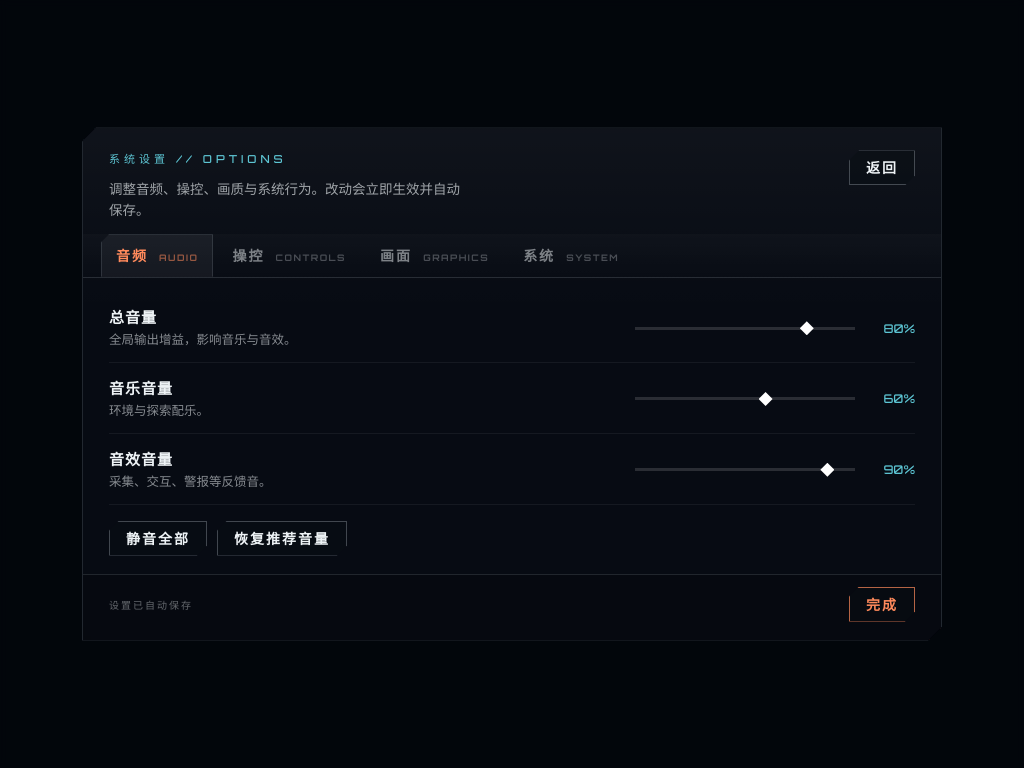
Test case: SettingsScreen › switches tabs
Click the tab with class "opts-tab" showing "画面 GRAPHICS" at x=435, y=256, box [365,234,504,277]
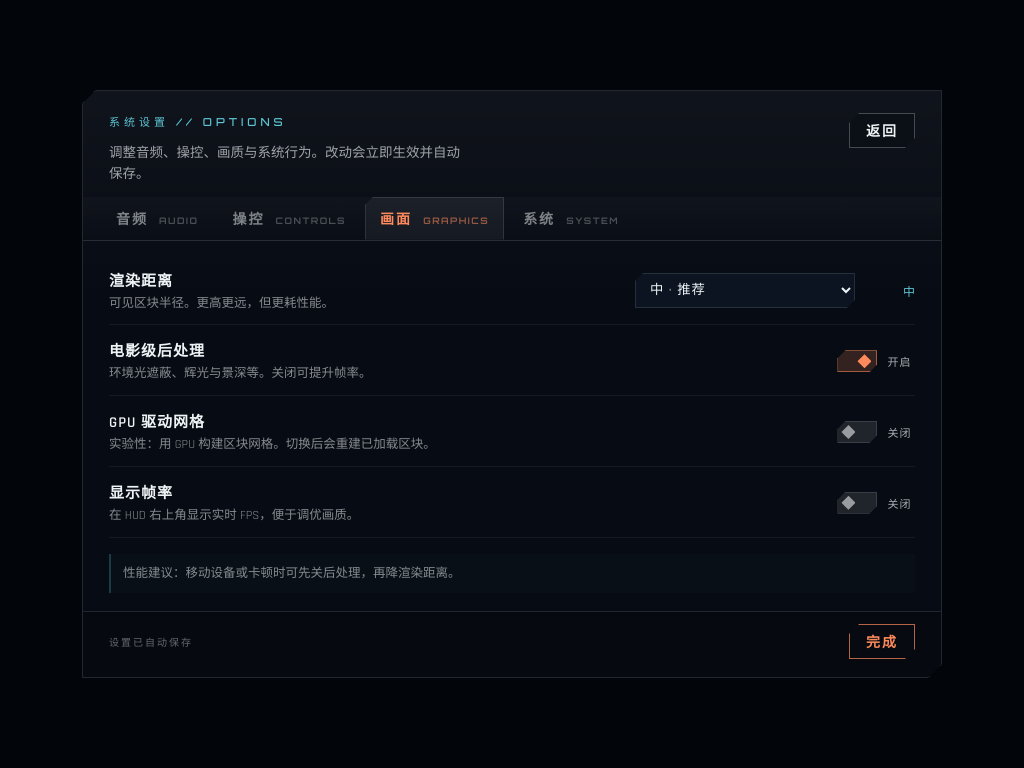
Check: the text "电影级后处理" is shown, box [109,342,205,362]
Check: the text "显示帧率" is shown, box [109,484,173,503]
